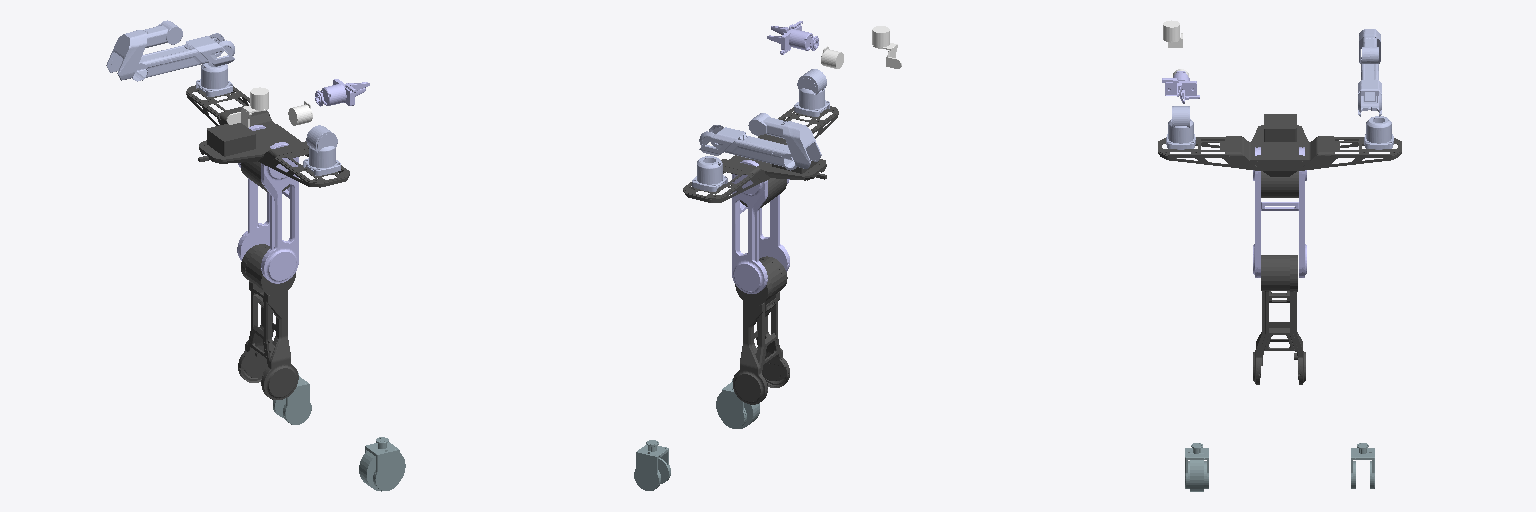
--- What the picture shows (computed from the rendered views, not written in the file) ---
The picture shows the robot from 3 angles, left to right: view 1: azimuth 30°, elevation 25°; view 2: azimuth 150°, elevation 25°; view 3: azimuth 270°, elevation 25°; orthographic projection.
Model mobiman/urdf/PI-Bot-SampleA with 31 links and 30 joints (19 revolute, 3 continuous, 4 prismatic, 4 fixed), rooted at base_link, posed all joints at 0.
Links seen in each view (by area): view 1: torso_link3, torso_link1, torso_link2, left_arm_link2, left_arm_link3, steer_motor_link2, steer_motor_link1, left_arm_base_link, right_arm_base_link, right_arm_link4, right_gripper_link, wheel_motor_link2 (+1 smaller); view 2: torso_link1, torso_link2, torso_link3, left_arm_link2, left_arm_link3, steer_motor_link1, left_arm_base_link, steer_motor_link2, right_arm_base_link, right_arm_link4, right_gripper_link; view 3: torso_link3, torso_link1, torso_link2, left_arm_link2, left_arm_base_link, left_arm_link3, right_arm_base_link, steer_motor_link1, steer_motor_link2.
Link boxes in pixels (left/top/right/bottom): torso_link3: left=186, top=85, right=349, bottom=192; torso_link1: left=238, top=244, right=298, bottom=399; torso_link2: left=237, top=125, right=298, bottom=283; left_arm_link2: left=132, top=33, right=234, bottom=81; left_arm_link3: left=106, top=20, right=182, bottom=80; steer_motor_link2: left=365, top=437, right=401, bottom=490; steer_motor_link1: left=273, top=373, right=311, bottom=424; left_arm_base_link: left=196, top=63, right=232, bottom=96; right_arm_base_link: left=303, top=146, right=340, bottom=175; right_arm_link4: left=226, top=87, right=268, bottom=127; right_gripper_link: left=320, top=79, right=354, bottom=105; wheel_motor_link2: left=359, top=445, right=405, bottom=491; torso_link1: left=733, top=256, right=789, bottom=404; torso_link2: left=732, top=160, right=789, bottom=293; torso_link3: left=683, top=106, right=838, bottom=207; left_arm_link2: left=699, top=125, right=796, bottom=170; left_arm_link3: left=748, top=113, right=821, bottom=168; steer_motor_link1: left=634, top=440, right=670, bottom=490; left_arm_base_link: left=692, top=156, right=727, bottom=191; steer_motor_link2: left=720, top=379, right=746, bottom=428; right_arm_base_link: left=794, top=88, right=829, bottom=116; right_arm_link4: left=872, top=26, right=901, bottom=68; right_gripper_link: left=781, top=25, right=813, bottom=50; torso_link3: left=1158, top=114, right=1401, bottom=197; torso_link1: left=1253, top=255, right=1305, bottom=384; torso_link2: left=1253, top=147, right=1306, bottom=277; left_arm_link2: left=1358, top=57, right=1381, bottom=116; left_arm_base_link: left=1364, top=116, right=1393, bottom=149; left_arm_link3: left=1359, top=29, right=1380, bottom=63; right_arm_base_link: left=1166, top=119, right=1195, bottom=149; steer_motor_link1: left=1351, top=443, right=1374, bottom=488; steer_motor_link2: left=1185, top=443, right=1208, bottom=488.
Bounding box of the posed robot: 0.7015 × 0.825 × 1.51 m (x, y, z).
17 mesh visuals loaded from 31 distinct referenced files (17 binary STL); not drawn: 14 (reference not matched to a file when rendering).

The robot description file, URDF, robot "mobiman/urdf/PI-Bot-SampleA":
<?xml version="1.0" encoding="utf-8"?>
<!-- This URDF was automatically created by SolidWorks to URDF Exporter! Originally created by Stephen Brawner ([email redacted]) 
     Commit Version: 1.6.0-4-g7f85cfe  Build Version: 1.6.7995.38578
     For more information, please see http://wiki.ros.org/sw_urdf_exporter -->
<robot
  name="mobiman/urdf/PI-Bot-SampleA">
  <link
    name="base_link">
    <inertial>
      <origin
        xyz="-0.0024126 -8.9626E-05 0.13736"
        rpy="0 0 0" />
      <mass
        value="62" />
      <inertia
        ixx="1.578"
        ixy="-1.2021E-05"
        ixz="0.053642"
        iyy="1.462"
        iyz="7.2969E-06"
        izz="2.8318" />
    </inertial>
    <visual>
      <origin
        xyz="0 0 0"
        rpy="0 0 0" />
      <geometry>
        <mesh
          filename="package://mobiman/urdf/PI-Bot-SampleA/meshes/base_link.STL" />
      </geometry>
      <material
        name="">
        <color
          rgba="0.82353 0.82353 1 1" />
      </material>
    </visual>
    <collision>
      <origin
        xyz="0 0 0"
        rpy="0 0 0" />
      <geometry>
        <mesh
          filename="package://mobiman/urdf/PI-Bot-SampleA/meshes/base_link.STL" />
      </geometry>
    </collision>
  </link>
  <link
    name="steer_motor_link1">
    <inertial>
      <origin
        xyz="0.0011203 -0.038858 -0.038897"
        rpy="0 0 0" />
      <mass
        value="1.0" />
      <inertia
        ixx="8.3911E-05"
        ixy="-3.7754E-06"
        ixz="4.5458E-09"
        iyy="7.0741E-05"
        iyz="-7.0316E-07"
        izz="9.2604E-05" />
    </inertial>
    <visual>
      <origin
        xyz="0 0 0"
        rpy="0 0 0" />
      <geometry>
        <mesh
          filename="package://mobiman/urdf/PI-Bot-SampleA/meshes/steer_motor_link1.STL" />
      </geometry>
      <material
        name="">
        <color
          rgba="0.59608 0.66667 0.68627 1" />
      </material>
    </visual>
    <collision>
      <origin
        xyz="0 0 0"
        rpy="0 0 0" />
      <geometry>
        <mesh
          filename="package://mobiman/urdf/PI-Bot-SampleA/meshes/steer_motor_link1.STL" />
      </geometry>
    </collision>
  </link>
  <joint
    name="steer_motor_joint1"
    type="revolute">
    <origin
      xyz="0.21516 0.28 0.12375"
      rpy="0 0 0" />
    <parent
      link="base_link" />
    <child
      link="steer_motor_link1" />
    <axis
      xyz="0 0 1" />
    <limit
      lower="-1.5708"
      upper="1.5708"
      effort="0"
      velocity="0" />
  </joint>
  <link
    name="wheel_motor_link1">
    <inertial>
      <origin
        xyz="-2.6184E-06 0.0015607 1.6575E-07"
        rpy="0 0 0" />
      <mass
        value="2.2" />
      <inertia
        ixx="0.00089952"
        ixy="6.916E-08"
        ixz="7.5501E-10"
        iyy="0.0015854"
        iyz="7.6011E-12"
        izz="0.00089958" />
    </inertial>
    <visual>
      <origin
        xyz="0 0 0"
        rpy="0 0 0" />
      <geometry>
        <mesh
          filename="package://mobiman/urdf/PI-Bot-SampleA/meshes/wheel_motor_link1.STL" />
      </geometry>
      <material
        name="">
        <color
          rgba="0.59608 0.66667 0.68627 1" />
      </material>
    </visual>
    <collision>
      <origin
        xyz="0 0 0"
        rpy="0 0 0" />
      <geometry>
        <mesh
          filename="package://mobiman/urdf/PI-Bot-SampleA/meshes/wheel_motor_link1.STL" />
      </geometry>
    </collision>
  </link>
  <joint
    name="wheel_motor_joint1"
    type="continuous">
    <origin
      xyz="0 0 -0.09525"
      rpy="0 0 0" />
    <parent
      link="steer_motor_link1" />
    <child
      link="wheel_motor_link1" />
    <axis
      xyz="0 1 0" />
  </joint>
  <link
    name="steer_motor_link2">
    <inertial>
      <origin
        xyz="0.0011198 0.038863 -0.038902"
        rpy="0 0 0" />
      <mass
        value="1.0" />
      <inertia
        ixx="8.3899E-05"
        ixy="3.7729E-06"
        ixz="4.5842E-09"
        iyy="7.0725E-05"
        iyz="7.0146E-07"
        izz="9.2578E-05" />
    </inertial>
    <visual>
      <origin
        xyz="0 0 0"
        rpy="0 0 0" />
      <geometry>
        <mesh
          filename="package://mobiman/urdf/PI-Bot-SampleA/meshes/steer_motor_link2.STL" />
      </geometry>
      <material
        name="">
        <color
          rgba="0.59608 0.66667 0.68627 1" />
      </material>
    </visual>
    <collision>
      <origin
        xyz="0 0 0"
        rpy="0 0 0" />
      <geometry>
        <mesh
          filename="package://mobiman/urdf/PI-Bot-SampleA/meshes/steer_motor_link2.STL" />
      </geometry>
    </collision>
  </link>
  <joint
    name="steer_motor_joint2"
    type="revolute">
    <origin
      xyz="0.21516 -0.28 0.12375"
      rpy="0 0 0" />
    <parent
      link="base_link" />
    <child
      link="steer_motor_link2" />
    <axis
      xyz="0 0 1" />
    <limit
      lower="-1.5708"
      upper="1.5708"
      effort="0"
      velocity="0" />
  </joint>
  <link
    name="wheel_motor_link2">
    <inertial>
      <origin
        xyz="2.6199E-06 -0.0015607 1.6573E-07"
        rpy="0 0 0" />
      <mass
        value="2.2" />
      <inertia
        ixx="0.00089952"
        ixy="6.9163E-08"
        ixz="-7.5368E-10"
        iyy="0.0015854"
        iyz="-7.6749E-12"
        izz="0.00089958" />
    </inertial>
    <visual>
      <origin
        xyz="0 0 0"
        rpy="0 0 0" />
      <geometry>
        <mesh
          filename="package://mobiman/urdf/PI-Bot-SampleA/meshes/wheel_motor_link2.STL" />
      </geometry>
      <material
        name="">
        <color
          rgba="0.59608 0.66667 0.68627 1" />
      </material>
    </visual>
    <collision>
      <origin
        xyz="0 0 0"
        rpy="0 0 0" />
      <geometry>
        <mesh
          filename="package://mobiman/urdf/PI-Bot-SampleA/meshes/wheel_motor_link2.STL" />
      </geometry>
    </collision>
  </link>
  <joint
    name="wheel_motor_joint2"
    type="continuous">
    <origin
      xyz="0 0 -0.09525"
      rpy="0 0 0" />
    <parent
      link="steer_motor_link2" />
    <child
      link="wheel_motor_link2" />
    <axis
      xyz="0 1 0" />
  </joint>
  <link
    name="steer_motor_link3">
    <inertial>
      <origin
        xyz="-0.0011198 -0.038863 -0.038902"
        rpy="0 0 0" />
      <mass
        value="1.0" />
      <inertia
        ixx="8.3899E-05"
        ixy="3.7729E-06"
        ixz="-4.5842E-09"
        iyy="7.0725E-05"
        iyz="-7.0146E-07"
        izz="9.2578E-05" />
    </inertial>
    <visual>
      <origin
        xyz="0 0 0"
        rpy="0 0 0" />
      <geometry>
        <mesh
          filename="package://mobiman/urdf/PI-Bot-SampleA/meshes/steer_motor_link3.STL" />
      </geometry>
      <material
        name="">
        <color
          rgba="0.59608 0.66667 0.68627 1" />
      </material>
    </visual>
    <collision>
      <origin
        xyz="0 0 0"
        rpy="0 0 0" />
      <geometry>
        <mesh
          filename="package://mobiman/urdf/PI-Bot-SampleA/meshes/steer_motor_link3.STL" />
      </geometry>
    </collision>
  </link>
  <joint
    name="steer_motor_joint3"
    type="revolute">
    <origin
      xyz="-0.28084 0 0.12375"
      rpy="0 0 0" />
    <parent
      link="base_link" />
    <child
      link="steer_motor_link3" />
    <axis
      xyz="0 0 1" />
    <limit
      lower="-1.5708"
      upper="1.5708"
      effort="0"
      velocity="0" />
  </joint>
  <link
    name="wheel_motor_link3">
    <inertial>
      <origin
        xyz="2.6203E-06 0.0015607 -1.6564E-07"
        rpy="0 0 0" />
      <mass
        value="2.2" />
      <inertia
        ixx="0.00089952"
        ixy="-6.9072E-08"
        ixz="7.5036E-10"
        iyy="0.0015854"
        iyz="-7.845E-12"
        izz="0.00089958" />
    </inertial>
    <visual>
      <origin
        xyz="0 0 0"
        rpy="0 0 0" />
      <geometry>
        <mesh
          filename="package://mobiman/urdf/PI-Bot-SampleA/meshes/wheel_motor_link3.STL" />
      </geometry>
      <material
        name="">
        <color
          rgba="0.59608 0.66667 0.68627 1" />
      </material>
    </visual>
    <collision>
      <origin
        xyz="0 0 0"
        rpy="0 0 0" />
      <geometry>
        <mesh
          filename="package://mobiman/urdf/PI-Bot-SampleA/meshes/wheel_motor_link3.STL" />
      </geometry>
    </collision>
  </link>
  <joint
    name="wheel_motor_joint3"
    type="continuous">
    <origin
      xyz="0 0 -0.09525"
      rpy="0 0 0" />
    <parent
      link="steer_motor_link3" />
    <child
      link="wheel_motor_link3" />
    <axis
      xyz="0 1 0" />
  </joint>
  <link
    name="torso_link1">
    <inertial>
      <origin
        xyz="0.00065636 0.0032247 0.23142"
        rpy="0 0 0" />
      <mass
        value="6.5" />
      <inertia
        ixx="0.10931"
        ixy="7.7893E-06"
        ixz="-0.00017473"
        iyy="0.10736"
        iyz="0.00013763"
        izz="0.0081222" />
    </inertial>
    <visual>
      <origin
        xyz="0 0 0"
        rpy="0 0 0" />
      <geometry>
        <mesh
          filename="package://mobiman/urdf/PI-Bot-SampleA/meshes/torso_link1.STL" />
      </geometry>
      <material
        name="">
        <color
          rgba="0.37255 0.37255 0.37255 1" />
      </material>
    </visual>
    <collision>
      <origin
        xyz="0 0 0"
        rpy="0 0 0" />
      <geometry>
        <mesh
          filename="package://mobiman/urdf/PI-Bot-SampleA/meshes/torso_link1.STL" />
      </geometry>
    </collision>
  </link>
  <joint
    name="torso_joint1"
    type="revolute">
    <origin
      xyz="-0.032845 0 0.301"
      rpy="0 0 0" />
    <parent
      link="base_link" />
    <child
      link="torso_link1" />
    <axis
      xyz="0 1 0" />
    <limit
      lower="-1.1345"
      upper="1.8326"
      effort="100"
      velocity="2.5" />
  </joint>
  <link
    name="torso_link2">
    <inertial>
      <origin
        xyz="0.0052517 0.014412 0.15711"
        rpy="0 0 0" />
      <mass
        value="5.5" />
      <inertia
        ixx="0.026081"
        ixy="-3.341E-07"
        ixz="0.00024541"
        iyy="0.027574"
        iyz="3.8474E-07"
        izz="0.0018515" />
    </inertial>
    <visual>
      <origin
        xyz="0 0 0"
        rpy="0 0 0" />
      <geometry>
        <mesh
          filename="package://mobiman/urdf/PI-Bot-SampleA/meshes/torso_link2.STL" />
      </geometry>
      <material
        name="">
        <color
          rgba="0.82353 0.82353 1 1" />
      </material>
    </visual>
    <collision>
      <origin
        xyz="0 0 0"
        rpy="0 0 0" />
      <geometry>
        <mesh
          filename="package://mobiman/urdf/PI-Bot-SampleA/meshes/torso_link2.STL" />
      </geometry>
    </collision>
  </link>
  <joint
    name="torso_joint2"
    type="revolute">
    <origin
      xyz="0 0 0.4"
      rpy="0 0 0" />
    <parent
      link="torso_link1" />
    <child
      link="torso_link2" />
    <axis
      xyz="0 1 0" />
    <limit
      lower="-2.7925"
      upper="2.5307"
      effort="100"
      velocity="2.5" />
  </joint>
  <link
    name="torso_link3">
    <inertial>
      <origin
        xyz="-7.551E-06 -0.0092667 0.0042124"
        rpy="0 0 0" />
      <mass
        value="3.5" />
      <inertia
        ixx="0.0014058"
        ixy="3.5487E-07"
        ixz="9.0955E-08"
        iyy="0.0021992"
        iyz="1.6338E-05"
        izz="0.0013332" />
    </inertial>
    <visual>
      <origin
        xyz="0 0 0"
        rpy="0 0 0" />
      <geometry>
        <mesh
          filename="package://mobiman/urdf/PI-Bot-SampleA/meshes/torso_link3.STL" />
      </geometry>
      <material
        name="">
        <color
          rgba="0.37255 0.37255 0.37255 1" />
      </material>
    </visual>
    <collision>
      <origin
        xyz="0 0 0"
        rpy="0 0 0" />
      <geometry>
        <mesh
          filename="package://mobiman/urdf/PI-Bot-SampleA/meshes/torso_link3.STL" />
      </geometry>
    </collision>
  </link>
  <joint
    name="torso_joint3"
    type="revolute">
    <origin
      xyz="0 0 0.3"
      rpy="0 0 0" />
    <parent
      link="torso_link2" />
    <child
      link="torso_link3" />
    <axis
      xyz="0 -1 0" />
    <limit
      lower="-1.68"
      upper="1.38"
      effort="100"
      velocity="2.5" />
  </joint>
  <link
    name="torso_link4">
    <inertial>
      <origin
        xyz="-0.063929 7.6867E-05 0.024944"
        rpy="0 0 0" />
      <mass
        value="9.7" />
      <inertia
        ixx="0.01277"
        ixy="-4.3378E-05"
        ixz="1.0087E-05"
        iyy="0.0099974"
        iyz="7.1603E-06"
        izz="0.021133" />
    </inertial>
    <visual>
      <origin
        xyz="0 0 0"
        rpy="0 0 0" />
      <geometry>
        <mesh
          filename="package://mobiman/urdf/PI-Bot-SampleA/meshes/torso_link4.STL" />
      </geometry>
      <material
        name="">
        <color
          rgba="0.82353 0.82353 1 1" />
      </material>
    </visual>
    <collision>
      <origin
        xyz="0 0 0"
        rpy="0 0 0" />
      <geometry>
        <mesh
          filename="package://mobiman/urdf/PI-Bot-SampleA/meshes/torso_link4.STL" />
      </geometry>
    </collision>
  </link>
  <joint
    name="torso_joint4"
    type="revolute">
    <origin
      xyz="0 0 0.09962"
      rpy="0 0 0" />
    <parent
      link="torso_link3" />
    <child
      link="torso_link4" />
    <axis
      xyz="0 0 1" />
    <limit
      lower="-3.0543"
      upper="3.0543"
      effort="100"
      velocity="2.5" />
  </joint>
  <link
    name="left_arm_base_link">
    <inertial>
      <origin
        xyz="-0.00056323 -3.1972E-06 0.038934"
        rpy="0 0 0" />
      <mass
        value="2.465" />
      <inertia
        ixx="0.0010597"
        ixy="1.675E-07"
        ixz="1.9822E-05"
        iyy="0.0010647"
        iyz="1.9134E-07"
        izz="0.0011787" />
    </inertial>
    <visual>
      <origin
        xyz="0 0 0"
        rpy="0 0 0" />
      <geometry>
        <mesh
          filename="package://mobiman/urdf/PI-Bot-SampleA/meshes/left_arm_base_link.STL" />
      </geometry>
      <material
        name="">
        <color
          rgba="0.79216 0.81961 0.93333 1" />
      </material>
    </visual>
    <collision>
      <origin
        xyz="0 0 0"
        rpy="0 0 0" />
      <geometry>
        <mesh
          filename="package://mobiman/urdf/PI-Bot-SampleA/meshes/left_arm_base_link.STL" />
      </geometry>
    </collision>
  </link>
  <joint
    name="left_arm_base_joint"
    type="fixed">
    <origin
      xyz="0.0011155 0.335 0.03512"
      rpy="0 0 0" />
    <parent
      link="torso_link4" />
    <child
      link="left_arm_base_link" />
    <axis
      xyz="0 0 0" />
  </joint>
  <link
    name="left_arm_link1">
    <inertial>
      <origin
        xyz="0.029139 -0.0033479 0.89803"
        rpy="0 0 0" />
      <mass
        value="1.319" />
      <inertia
        ixx="0.0013567"
        ixy="0.00042602"
        ixz="0.0014294"
        iyy="0.0013928"
        iyz="-0.0098961"
        izz="0.0053368" />
    </inertial>
    <visual>
      <origin
        xyz="0 0 0"
        rpy="0 0 0" />
      <geometry>
        <mesh
          filename="package://mobiman/urdf/PI-Bot-SampleA/meshes/left_arm_link1.STL" />
      </geometry>
      <material
        name="">
        <color
          rgba="0.79216 0.81961 0.93333 1" />
      </material>
    </visual>
    <collision>
      <origin
        xyz="0 0 0"
        rpy="0 0 0" />
      <geometry>
        <mesh
          filename="package://mobiman/urdf/PI-Bot-SampleA/meshes/left_arm_link1.STL" />
      </geometry>
    </collision>
  </link>
  <joint
    name="left_arm_joint1"
    type="revolute">
    <origin
      xyz="-0.0011147 0 0.0446"
      rpy="0 0 0" />
    <parent
      link="left_arm_base_link" />
    <child
      link="left_arm_link1" />
    <axis
      xyz="0 0 1" />
    <limit
      lower="-2.8798"
      upper="2.8798"
      effort="40"
      velocity="20.944" />
  </joint>
  <link
    name="left_arm_link2">
    <inertial>
      <origin
        xyz="-0.23623 0.00013246 0.016352"
        rpy="0 0 0" />
      <mass
        value="1.3" />
      <inertia
        ixx="0.00060639"
        ixy="-0.00014953"
        ixz="0.00041826"
        iyy="0.0075708"
        iyz="8.0938E-06"
        izz="0.0075932" />
    </inertial>
    <visual>
      <origin
        xyz="0 0 0"
        rpy="0 0 0" />
      <geometry>
        <mesh
          filename="package://mobiman/urdf/PI-Bot-SampleA/meshes/left_arm_link2.STL" />
      </geometry>
      <material
        name="">
        <color
          rgba="0.79216 0.81961 0.93333 1" />
      </material>
    </visual>
    <collision>
      <origin
        xyz="0 0 0"
        rpy="0 0 0" />
      <geometry>
        <mesh
          filename="package://mobiman/urdf/PI-Bot-SampleA/meshes/left_arm_link2.STL" />
      </geometry>
    </collision>
  </link>
  <joint
    name="left_arm_joint2"
    type="revolute">
    <origin
      xyz="0 0 0.1061"
      rpy="0 0 0" />
    <parent
      link="left_arm_link1" />
    <child
      link="left_arm_link2" />
    <axis
      xyz="0 1 0" />
    <limit
      lower="0"
      upper="3.2289"
      effort="40"
      velocity="20.944" />
  </joint>
  <link
    name="left_arm_link3">
    <inertial>
      <origin
        xyz="0.045114 0.00045951 0.054617"
        rpy="0 0 0" />
      <mass
        value="0.818" />
      <inertia
        ixx="0.00060106"
        ixy="6.9679E-06"
        ixz="-0.00022464"
        iyy="0.0015026"
        iyz="9.7449E-06"
        izz="0.0013957" />
    </inertial>
    <visual>
      <origin
        xyz="0 0 0"
        rpy="0 0 0" />
      <geometry>
        <mesh
          filename="package://mobiman/urdf/PI-Bot-SampleA/meshes/left_arm_link3.STL" />
      </geometry>
      <material
        name="">
        <color
          rgba="0.79216 0.81961 0.93333 1" />
      </material>
    </visual>
    <collision>
      <origin
        xyz="0 0 0"
        rpy="0 0 0" />
      <geometry>
        <mesh
          filename="package://mobiman/urdf/PI-Bot-SampleA/meshes/left_arm_link3.STL" />
      </geometry>
    </collision>
  </link>
  <joint
    name="left_arm_joint3"
    type="revolute">
    <origin
      xyz="-0.34928 0 0.02"
      rpy="0 0 0" />
    <parent
      link="left_arm_link2" />
    <child
      link="left_arm_link3" />
    <axis
      xyz="0 1 0" />
    <limit
      lower="-3.3161"
      upper="0"
      effort="27"
      velocity="7.5398" />
  </joint>
  <link
    name="left_arm_link4">
    <inertial>
      <origin
        xyz="0.24285 -8.1226E-07 0.0023774"
        rpy="0 0 0" />
      <mass
        value="0.816" />
      <inertia
        ixx="8.4501E-05"
        ixy="2.2977E-09"
        ixz="-8.2585E-07"
        iyy="9.7045E-05"
        iyz="-5.0789E-09"
        izz="0.00010174" />
    </inertial>
    <visual>
      <origin
        xyz="0 0 0"
        rpy="0 0 0" />
      <geometry>
        <mesh
          filename="package://mobiman/urdf/PI-Bot-SampleA/meshes/left_arm_link4.STL" />
      </geometry>
      <material
        name="">
        <color
          rgba="1 1 1 1" />
      </material>
    </visual>
    <collision>
      <origin
        xyz="0 0 0"
        rpy="0 0 0" />
      <geometry>
        <mesh
          filename="package://mobiman/urdf/PI-Bot-SampleA/meshes/left_arm_link4.STL" />
      </geometry>
    </collision>
  </link>
  <joint
    name="left_arm_joint4"
    type="revolute">
    <origin
      xyz="0.02735 0 0.069767"
      rpy="0 0 0" />
    <parent
      link="left_arm_link3" />
    <child
      link="left_arm_link4" />
    <axis
      xyz="1 0 0" />
    <limit
      lower="-2.8798"
      upper="2.8798"
      effort="7"
      velocity="25.133" />
  </joint>
  <link
    name="left_arm_link5">
    <inertial>
      <origin
        xyz="0.054309 -3.9544E-06 0.004181"
        rpy="0 0 0" />
      <mass
        value="0.801" />
      <inertia
        ixx="8.4E-05"
        ixy="-7.4088E-08"
        ixz="1.6234E-05"
        iyy="0.00011333"
        iyz="1.3677E-08"
        izz="9.8498E-05" />
    </inertial>
    <visual>
      <origin
        xyz="0 0 0"
        rpy="0 0 0" />
      <geometry>
        <mesh
          filename="package://mobiman/urdf/PI-Bot-SampleA/meshes/left_arm_link5.STL" />
      </geometry>
      <material
        name="">
        <color
          rgba="1 1 1 1" />
      </material>
    </visual>
    <collision>
      <origin
        xyz="0 0 0"
        rpy="0 0 0" />
      <geometry>
        <mesh
          filename="package://mobiman/urdf/PI-Bot-SampleA/meshes/left_arm_link5.STL" />
      </geometry>
    </collision>
  </link>
  <joint
    name="left_arm_joint5"
    type="revolute">
    <origin
      xyz="0.2463 0 -0.0005"
      rpy="0 0 0" />
    <parent
      link="left_arm_link4" />
    <child
      link="left_arm_link5" />
    <axis
      xyz="0 0 1" />
    <limit
      lower="-1.6581"
      upper="1.6581"
      effort="7"
      velocity="25.133" />
  </joint>
  <link
    name="left_arm_link6">
    <inertial>
      <origin
        xyz="0.028138 -5.414E-13 1.2568E-13"
        rpy="0 0 0" />
      <mass
        value="0.1" />
      <inertia
        ixx="3.5662E-06"
        ixy="2.1364E-17"
        ixz="-3.7782E-18"
        iyy="2.0238E-06"
        iyz="1.7998E-12"
        izz="2.0238E-06" />
    </inertial>
    <visual>
      <origin
        xyz="0 0 0"
        rpy="0 0 0" />
      <geometry>
        <mesh
          filename="package://mobiman/urdf/PI-Bot-SampleA/meshes/left_arm_link6.STL" />
      </geometry>
      <material
        name="">
        <color
          rgba="0.82353 0.82353 1 1" />
      </material>
    </visual>
    <collision>
      <origin
        xyz="0 0 0"
        rpy="0 0 0" />
      <geometry>
        <mesh
          filename="package://mobiman/urdf/PI-Bot-SampleA/meshes/left_arm_link6.STL" />
      </geometry>
    </collision>
  </link>
  <joint
    name="left_arm_joint6"
    type="revolute">
    <origin
      xyz="0.058249 0 0.0005"
      rpy="0 0 0" />
    <parent
      link="left_arm_link5" />
    <child
      link="left_arm_link6" />
    <axis
      xyz="1 0 0" />
    <limit
      lower="-2.8798"
      upper="2.8798"
      effort="7"
      velocity="25.133" />
  </joint>
  <link
    name="left_gripper_link">
    <inertial>
      <origin
        xyz="-0.031107 -9.0557E-08 -2.3135E-08"
        rpy="0 0 0" />
      <mass
        value="0.465" />
      <inertia
        ixx="0.00017588"
        ixy="1.3063E-09"
        ixz="4.2061E-11"
        iyy="0.00016512"
        iyz="8.1873E-08"
        izz="9.8636E-05" />
    </inertial>
    <visual>
      <origin
        xyz="0 0 0"
        rpy="0 0 0" />
      <geometry>
        <mesh
          filename="package://mobiman/urdf/PI-Bot-SampleA/meshes/left_gripper_link.STL" />
      </geometry>
      <material
        name="">
        <color
          rgba="0.82353 0.82353 1 1" />
      </material>
    </visual>
    <collision>
      <origin
        xyz="0 0 0"
        rpy="0 0 0" />
      <geometry>
        <mesh
          filename="package://mobiman/urdf/PI-Bot-SampleA/meshes/left_gripper_link.STL" />
      </geometry>
    </collision>
  </link>
  <joint
    name="left_gripper_joint"
    type="fixed">
    <origin
      xyz="0.1039 0 0"
      rpy="0 0 0" />
    <parent
      link="left_arm_link6" />
    <child
      link="left_gripper_link" />
    <axis
      xyz="0 0 0" />
  </joint>
  <link
    name="left_gripper_finger_link1">
    <inertial>
      <origin
        xyz="-0.01959 -0.0054224 -0.015114"
        rpy="0 0 0" />
      <mass
        value="0.057" />
      <inertia
        ixx="2.4057E-06"
        ixy="-5.1214E-08"
        ixz="3.9899E-07"
        iyy="6.4849E-06"
        iyz="-6.1948E-08"
        izz="5.7108E-06" />
    </inertial>
    <visual>
      <origin
        xyz="0 0 0"
        rpy="0 0 0" />
      <geometry>
        <mesh
          filename="package://mobiman/urdf/PI-Bot-SampleA/meshes/left_gripper_finger_link1.STL" />
      </geometry>
      <material
        name="">
        <color
          rgba="0.82353 0.82353 1 1" />
      </material>
    </visual>
    <collision>
      <origin
        xyz="0 0 0"
        rpy="0 0 0" />
      <geometry>
        <mesh
          filename="package://mobiman/urdf/PI-Bot-SampleA/meshes/left_gripper_finger_link1.STL" />
      </geometry>
    </collision>
  </link>
  <joint
    name="left_gripper_finger_joint1"
    type="prismatic">
    <origin
      xyz="0.03689 -0.00012066 0.013453"
      rpy="0 0 0" />
    <parent
      link="left_gripper_link" />
    <child
      link="left_gripper_finger_link1" />
    <axis
      xyz="0 0 1" />
    <limit
      lower="0"
      upper="0.05"
      effort="100"
      velocity="0.25" />
  </joint>
  <link
    name="left_gripper_finger_link2">
    <inertial>
      <origin
        xyz="-0.01959 0.0054224 0.015114"
        rpy="0 0 0" />
      <mass
        value="0.057" />
      <inertia
        ixx="2.4057E-06"
        ixy="5.1214E-08"
        ixz="-3.9899E-07"
        iyy="6.4849E-06"
        iyz="-6.1948E-08"
        izz="5.7108E-06" />
    </inertial>
    <visual>
      <origin
        xyz="0 0 0"
        rpy="0 0 0" />
      <geometry>
        <mesh
          filename="package://mobiman/urdf/PI-Bot-SampleA/meshes/left_gripper_finger_link2.STL" />
      </geometry>
      <material
        name="">
        <color
          rgba="0.82353 0.82353 1 1" />
      </material>
    </visual>
    <collision>
      <origin
        xyz="0 0 0"
        rpy="0 0 0" />
      <geometry>
        <mesh
          filename="package://mobiman/urdf/PI-Bot-SampleA/meshes/left_gripper_finger_link2.STL" />
      </geometry>
    </collision>
  </link>
  <joint
    name="left_gripper_finger_joint2"
    type="prismatic">
    <origin
      xyz="0.03689 0.00012066 -0.013453"
      rpy="0 0 0" />
    <parent
      link="left_gripper_link" />
    <child
      link="left_gripper_finger_link2" />
    <axis
      xyz="0 0 1" />
    <limit
      lower="-0.05"
      upper="0"
      effort="100"
      velocity="0.25" />
  </joint>
  <link
    name="right_arm_base_link">
    <inertial>
      <origin
        xyz="-0.00056323 -3.1972E-06 0.038934"
        rpy="0 0 0" />
      <mass
        value="2.465" />
      <inertia
        ixx="0.0010597"
        ixy="1.675E-07"
        ixz="1.9822E-05"
        iyy="0.0010647"
        iyz="1.9134E-07"
        izz="0.0011787" />
    </inertial>
    <visual>
      <origin
        xyz="0 0 0"
        rpy="0 0 0" />
      <geometry>
        <mesh
          filename="package://mobiman/urdf/PI-Bot-SampleA/meshes/right_arm_base_link.STL" />
      </geometry>
      <material
        name="">
        <color
          rgba="0.79216 0.81961 0.93333 1" />
      </material>
    </visual>
    <collision>
      <origin
        xyz="0 0 0"
        rpy="0 0 0" />
      <geometry>
        <mesh
          filename="package://mobiman/urdf/PI-Bot-SampleA/meshes/right_arm_base_link.STL" />
      </geometry>
    </collision>
  </link>
  <joint
    name="right_arm_base_joint"
    type="fixed">
    <origin
      xyz="0.0011155 -0.335 0.035121"
      rpy="0 0 0" />
    <parent
      link="torso_link4" />
    <child
      link="right_arm_base_link" />
    <axis
      xyz="0 0 0" />
  </joint>
  <link
    name="right_arm_link1">
    <inertial>
      <origin
        xyz="0.029139 0.0033521 0.89803"
        rpy="0 0 0" />
      <mass
        value="1.319" />
      <inertia
        ixx="0.0013567"
        ixy="0.00042602"
        ixz="0.0014294"
        iyy="0.0013928"
        iyz="-0.0098961"
        izz="0.0053368" />
    </inertial>
    <visual>
      <origin
        xyz="0 0 0"
        rpy="0 0 0" />
      <geometry>
        <mesh
          filename="package://mobiman/urdf/PI-Bot-SampleA/meshes/right_arm_link1.STL" />
      </geometry>
      <material
        name="">
        <color
          rgba="0.79216 0.81961 0.93333 1" />
      </material>
    </visual>
    <collision>
      <origin
        xyz="0 0 0"
        rpy="0 0 0" />
      <geometry>
        <mesh
          filename="package://mobiman/urdf/PI-Bot-SampleA/meshes/right_arm_link1.STL" />
      </geometry>
    </collision>
  </link>
  <joint
    name="right_arm_joint1"
    type="revolute">
    <origin
      xyz="-0.0011147 0 0.0446"
      rpy="0 0 0" />
    <parent
      link="right_arm_base_link" />
    <child
      link="right_arm_link1" />
    <axis
      xyz="0 0 1" />
    <limit
      lower="-2.8798"
      upper="2.8798"
      effort="40"
      velocity="20.944" />
  </joint>
  <link
    name="right_arm_link2">
    <inertial>
      <origin
        xyz="-0.23623 0.00013246 0.016352"
        rpy="0 0 0" />
      <mass
        value="1.3" />
      <inertia
        ixx="0.00060639"
        ixy="-0.00014953"
        ixz="0.00041826"
        iyy="0.0075708"
        iyz="8.0938E-06"
        izz="0.0075932" />
    </inertial>
    <visual>
      <origin
        xyz="0 0 0"
        rpy="0 0 0" />
      <geometry>
        <mesh
          filename="package://mobiman/urdf/PI-Bot-SampleA/meshes/right_arm_link2.STL" />
      </geometry>
      <material
        name="">
        <color
          rgba="0.79216 0.81961 0.93333 1" />
      </material>
    </visual>
    <collision>
      <origin
        xyz="0 0 0"
        rpy="0 0 0" />
      <geometry>
        <mesh
          filename="package://mobiman/urdf/PI-Bot-SampleA/meshes/right_arm_link2.STL" />
      </geometry>
    </collision>
  </link>
  <joint
    name="right_arm_joint2"
    type="revolute">
    <origin
      xyz="0 0 0.1061"
      rpy="0 0 0" />
    <parent
      link="right_arm_link1" />
    <child
      link="right_arm_link2" />
    <axis
      xyz="0 1 0" />
    <limit
      lower="0"
      upper="3.2289"
      effort="40"
      velocity="20.944" />
  </joint>
  <link
    name="right_arm_link3">
    <inertial>
      <origin
        xyz="0.045114 0.00045953 0.054617"
        rpy="0 0 0" />
      <mass
        value="0.818" />
      <inertia
        ixx="0.00060106"
        ixy="6.9669E-06"
        ixz="-0.00022464"
        iyy="0.0015025"
        iyz="9.7448E-06"
        izz="0.0013957" />
    </inertial>
    <visual>
      <origin
        xyz="0 0 0"
        rpy="0 0 0" />
      <geometry>
        <mesh
          filename="package://mobiman/urdf/PI-Bot-SampleA/meshes/right_arm_link3.STL" />
      </geometry>
      <material
        name="">
        <color
          rgba="0.79216 0.81961 0.93333 1" />
      </material>
    </visual>
    <collision>
      <origin
        xyz="0 0 0"
        rpy="0 0 0" />
      <geometry>
        <mesh
          filename="package://mobiman/urdf/PI-Bot-SampleA/meshes/right_arm_link3.STL" />
      </geometry>
    </collision>
  </link>
  <joint
    name="right_arm_joint3"
    type="revolute">
    <origin
      xyz="-0.34928 0 0.02"
      rpy="0 0 0" />
    <parent
      link="right_arm_link2" />
    <child
      link="right_arm_link3" />
    <axis
      xyz="0 1 0" />
    <limit
      lower="-3.3161"
      upper="0"
      effort="27"
      velocity="7.5398" />
  </joint>
  <link
    name="right_arm_link4">
    <inertial>
      <origin
        xyz="0.24285 -8.1226E-07 0.0023774"
        rpy="0 0 0" />
      <mass
        value="0.816" />
      <inertia
        ixx="8.4501E-05"
        ixy="2.2977E-09"
        ixz="-8.2585E-07"
        iyy="9.7045E-05"
        iyz="-5.0789E-09"
        izz="0.00010174" />
    </inertial>
    <visual>
      <origin
        xyz="0 0 0"
        rpy="0 0 0" />
      <geometry>
        <mesh
          filename="package://mobiman/urdf/PI-Bot-SampleA/meshes/right_arm_link4.STL" />
      </geometry>
      <material
        name="">
        <color
          rgba="1 1 1 1" />
      </material>
    </visual>
    <collision>
      <origin
        xyz="0 0 0"
        rpy="0 0 0" />
      <geometry>
        <mesh
          filename="package://mobiman/urdf/PI-Bot-SampleA/meshes/right_arm_link4.STL" />
      </geometry>
    </collision>
  </link>
  <joint
    name="right_arm_joint4"
    type="revolute">
    <origin
      xyz="0.02735 0 0.069767"
      rpy="0 0 0" />
    <parent
      link="right_arm_link3" />
    <child
      link="right_arm_link4" />
    <axis
      xyz="1 0 0" />
    <limit
      lower="-2.8798"
      upper="2.8798"
      effort="7"
      velocity="25.133" />
  </joint>
  <link
    name="right_arm_link5">
    <inertial>
      <origin
        xyz="0.054309 -3.9544E-06 0.004181"
        rpy="0 0 0" />
      <mass
        value="0.801" />
      <inertia
        ixx="8.4E-05"
        ixy="-7.4088E-08"
        ixz="1.6234E-05"
        iyy="0.00011333"
        iyz="1.3677E-08"
        izz="9.8498E-05" />
    </inertial>
    <visual>
      <origin
        xyz="0 0 0"
        rpy="0 0 0" />
      <geometry>
        <mesh
          filename="package://mobiman/urdf/PI-Bot-SampleA/meshes/right_arm_link5.STL" />
      </geometry>
      <material
        name="">
        <color
          rgba="1 1 1 1" />
      </material>
    </visual>
    <collision>
      <origin
        xyz="0 0 0"
        rpy="0 0 0" />
      <geometry>
        <mesh
          filename="package://mobiman/urdf/PI-Bot-SampleA/meshes/right_arm_link5.STL" />
      </geometry>
    </collision>
  </link>
  <joint
    name="right_arm_joint5"
    type="revolute">
    <origin
      xyz="0.2463 0 -0.0005"
      rpy="0 0 0" />
    <parent
      link="right_arm_link4" />
    <child
      link="right_arm_link5" />
    <axis
      xyz="0 0 1" />
    <limit
      lower="-1.6581"
      upper="1.6581"
      effort="7"
      velocity="25.133" />
  </joint>
  <link
    name="right_arm_link6">
    <inertial>
      <origin
        xyz="0.028138 -5.4129E-13 1.259E-13"
        rpy="0 0 0" />
      <mass
        value="0.1" />
      <inertia
        ixx="3.5662E-06"
        ixy="2.1366E-17"
        ixz="-3.7836E-18"
        iyy="2.0238E-06"
        iyz="1.7998E-12"
        izz="2.0238E-06" />
    </inertial>
    <visual>
      <origin
        xyz="0 0 0"
        rpy="0 0 0" />
      <geometry>
        <mesh
          filename="package://mobiman/urdf/PI-Bot-SampleA/meshes/right_arm_link6.STL" />
      </geometry>
      <material
        name="">
        <color
          rgba="0.82353 0.82353 1 1" />
      </material>
    </visual>
    <collision>
      <origin
        xyz="0 0 0"
        rpy="0 0 0" />
      <geometry>
        <mesh
          filename="package://mobiman/urdf/PI-Bot-SampleA/meshes/right_arm_link6.STL" />
      </geometry>
    </collision>
  </link>
  <joint
    name="right_arm_joint6"
    type="revolute">
    <origin
      xyz="0.058249 0 0.0005"
      rpy="0 0 0" />
    <parent
      link="right_arm_link5" />
    <child
      link="right_arm_link6" />
    <axis
      xyz="1 0 0" />
    <limit
      lower="-2.8798"
      upper="2.8798"
      effort="7"
      velocity="25.133" />
  </joint>
  <link
    name="right_gripper_link">
    <inertial>
      <origin
        xyz="-0.031107 -9.0557E-08 -2.3135E-08"
        rpy="0 0 0" />
      <mass
        value="0.465" />
      <inertia
        ixx="0.00017588"
        ixy="1.3063E-09"
        ixz="4.2061E-11"
        iyy="0.00016512"
        iyz="8.1873E-08"
        izz="9.8636E-05" />
    </inertial>
    <visual>
      <origin
        xyz="0 0 0"
        rpy="0 0 0" />
      <geometry>
        <mesh
          filename="package://mobiman/urdf/PI-Bot-SampleA/meshes/right_gripper_link.STL" />
      </geometry>
      <material
        name="">
        <color
          rgba="0.82353 0.82353 1 1" />
      </material>
    </visual>
    <collision>
      <origin
        xyz="0 0 0"
        rpy="0 0 0" />
      <geometry>
        <mesh
          filename="package://mobiman/urdf/PI-Bot-SampleA/meshes/right_gripper_link.STL" />
      </geometry>
    </collision>
  </link>
  <joint
    name="right_gripper_joint"
    type="fixed">
    <origin
      xyz="0.1039 0 0"
      rpy="0 0 0" />
    <parent
      link="right_arm_link6" />
    <child
      link="right_gripper_link" />
    <axis
      xyz="0 0 0" />
  </joint>
  <link
    name="right_gripper_finger_link1">
    <inertial>
      <origin
        xyz="-0.01959 -0.0054224 -0.015114"
        rpy="0 0 0" />
      <mass
        value="0.057" />
      <inertia
        ixx="2.4057E-06"
        ixy="-5.1214E-08"
        ixz="3.9899E-07"
        iyy="6.4849E-06"
        iyz="-6.1948E-08"
        izz="5.7108E-06" />
    </inertial>
    <visual>
      <origin
        xyz="0 0 0"
        rpy="0 0 0" />
      <geometry>
        <mesh
          filename="package://mobiman/urdf/PI-Bot-SampleA/meshes/right_gripper_finger_link1.STL" />
      </geometry>
      <material
        name="">
        <color
          rgba="0.82353 0.82353 1 1" />
      </material>
    </visual>
    <collision>
      <origin
        xyz="0 0 0"
        rpy="0 0 0" />
      <geometry>
        <mesh
          filename="package://mobiman/urdf/PI-Bot-SampleA/meshes/right_gripper_finger_link1.STL" />
      </geometry>
    </collision>
  </link>
  <joint
    name="right_gripper_finger_joint1"
    type="prismatic">
    <origin
      xyz="0.03689 -0.00012066 0.013453"
      rpy="0 0 0" />
    <parent
      link="right_gripper_link" />
    <child
      link="right_gripper_finger_link1" />
    <axis
      xyz="0 0 1" />
    <limit
      lower="0"
      upper="0.05"
      effort="100"
      velocity="0.25" />
  </joint>
  <link
    name="right_gripper_finger_link2">
    <inertial>
      <origin
        xyz="-0.01959 0.0054224 0.015114"
        rpy="0 0 0" />
      <mass
        value="0.057" />
      <inertia
        ixx="2.4057E-06"
        ixy="5.1214E-08"
        ixz="-3.9899E-07"
        iyy="6.4849E-06"
        iyz="-6.1948E-08"
        izz="5.7108E-06" />
    </inertial>
    <visual>
      <origin
        xyz="0 0 0"
        rpy="0 0 0" />
      <geometry>
        <mesh
          filename="package://mobiman/urdf/PI-Bot-SampleA/meshes/right_gripper_finger_link2.STL" />
      </geometry>
      <material
        name="">
        <color
          rgba="0.82353 0.82353 1 1" />
      </material>
    </visual>
    <collision>
      <origin
        xyz="0 0 0"
        rpy="0 0 0" />
      <geometry>
        <mesh
          filename="package://mobiman/urdf/PI-Bot-SampleA/meshes/right_gripper_finger_link2.STL" />
      </geometry>
    </collision>
  </link>
  <joint
    name="right_gripper_finger_joint2"
    type="prismatic">
    <origin
      xyz="0.03689 0.00012066 -0.013453"
      rpy="0 0 0" />
    <parent
      link="right_gripper_link" />
    <child
      link="right_gripper_finger_link2" />
    <axis
      xyz="0 0 1" />
    <limit
      lower="-0.05"
      upper="0"
      effort="100"
      velocity="0.25" />
  </joint>
</robot>
